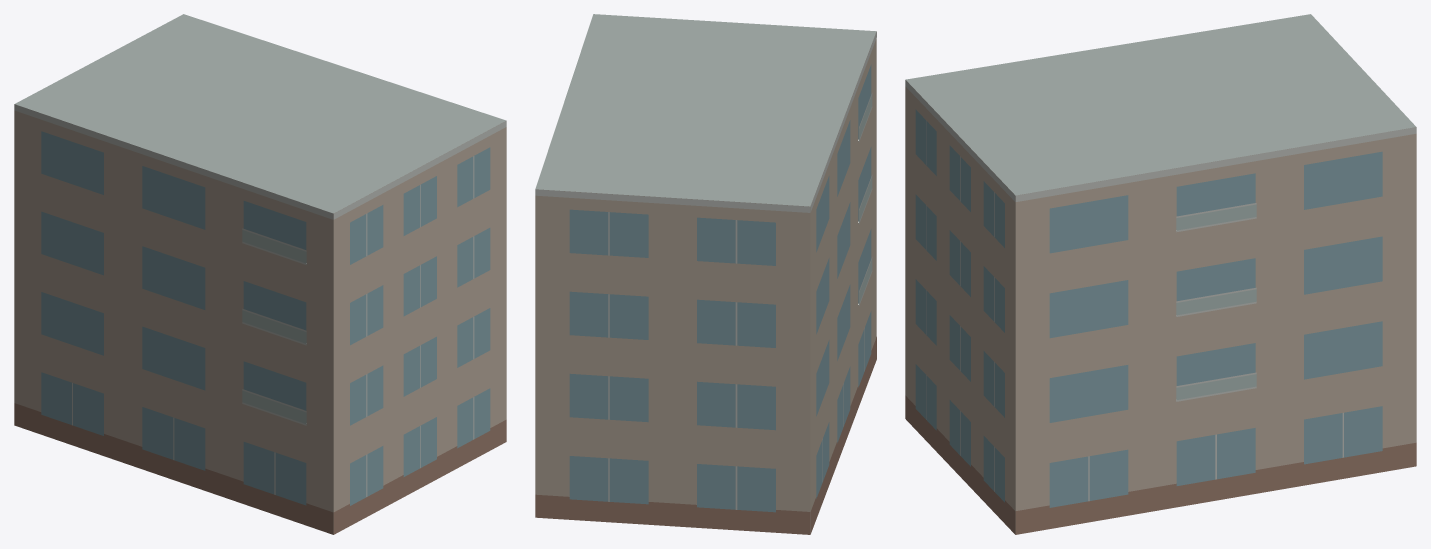
Rendered from survey-upis-32754678.glb.
The picture shows the model from 3 angles, left to right: view 1: azimuth 30°, elevation 25°; view 2: azimuth 150°, elevation 25°; view 3: azimuth 270°, elevation 25°; orthographic projection. The views are drawn at different scales.
Parts seen in each view (by area): view 1: survey-upis-32754678.tmp; view 2: survey-upis-32754678.tmp; view 3: survey-upis-32754678.tmp.
Part boxes in pixels (left/top/right/bottom): survey-upis-32754678.tmp: left=14, top=14, right=506, bottom=534; survey-upis-32754678.tmp: left=535, top=14, right=876, bottom=534; survey-upis-32754678.tmp: left=905, top=14, right=1416, bottom=534.
Bounding box in the file's own units: 14.24 × 12.4 × 16.94.
